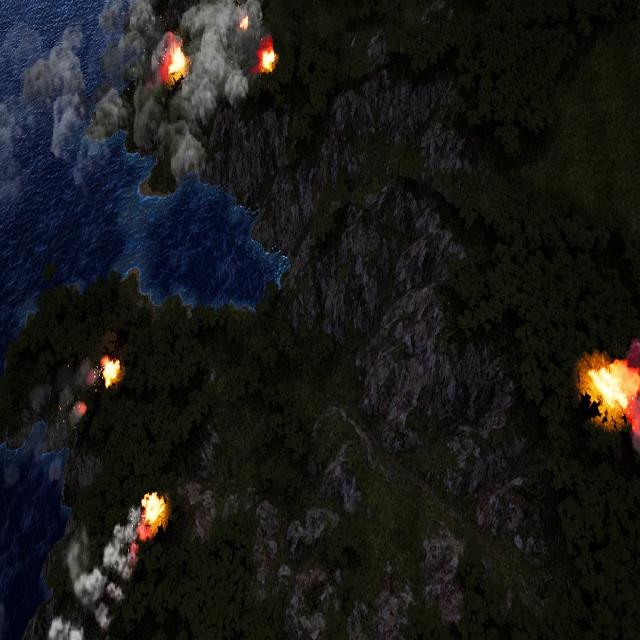fire: (574, 334, 640, 445), (137, 491, 166, 543), (161, 41, 188, 83), (254, 39, 276, 73), (102, 356, 122, 389), (238, 16, 250, 29)
smoke: (0, 0, 264, 180), (43, 509, 138, 639)
